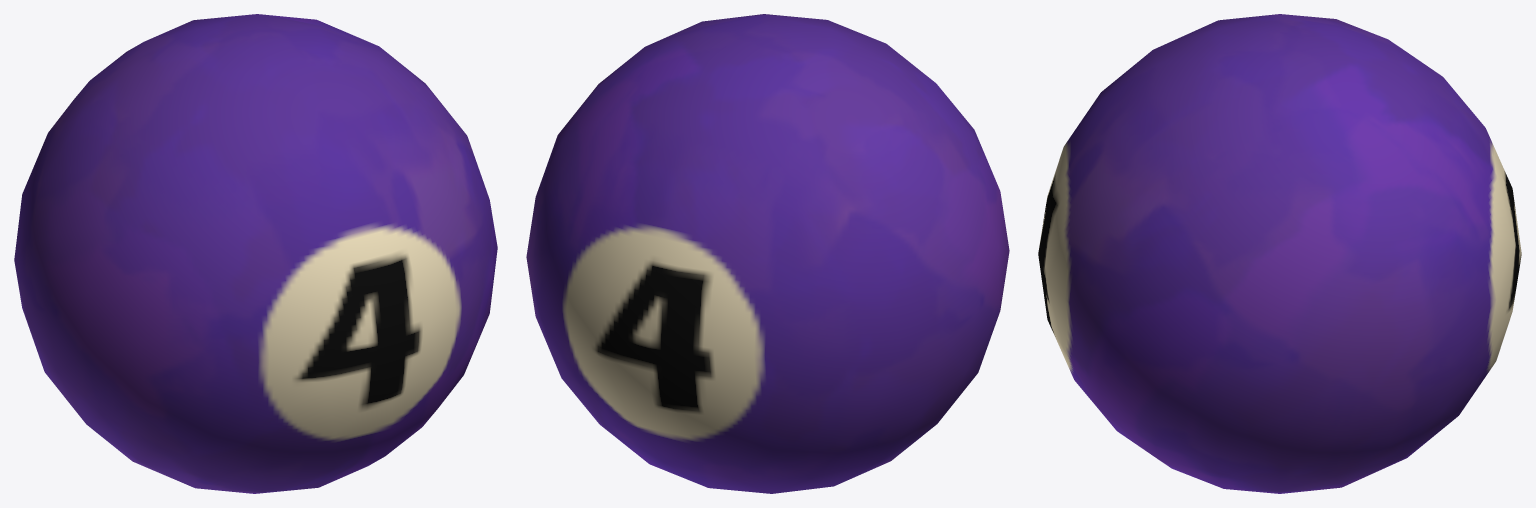
The model's file is SM_PoolBall4.fbx.
3 renders of one model, left to right at view 1: azimuth 30°, elevation 25°; view 2: azimuth 150°, elevation 25°; view 3: azimuth 270°, elevation 25°, orthographic.
Visible parts, largest first — view 1: SM_PoolBall4; view 2: SM_PoolBall4; view 3: SM_PoolBall4.
Part boxes in pixels (x1=…): SM_PoolBall4: x1=14, y1=14, x2=497, y2=493; SM_PoolBall4: x1=526, y1=14, x2=1009, y2=493; SM_PoolBall4: x1=1038, y1=14, x2=1521, y2=493.
Bounding box in the file's own units: 8.6 × 8.6 × 8.6.
